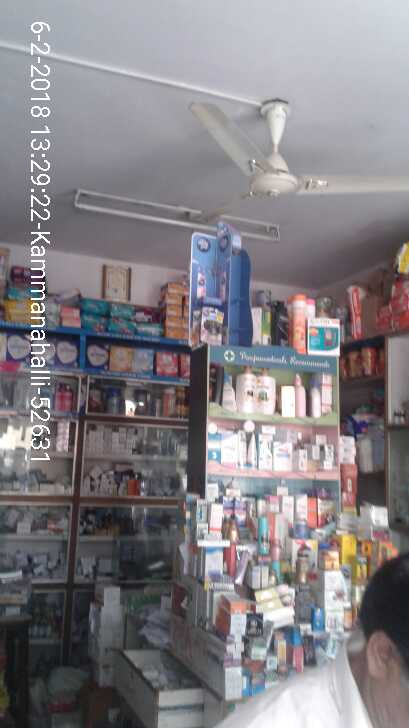reject: (78, 376, 171, 418)
